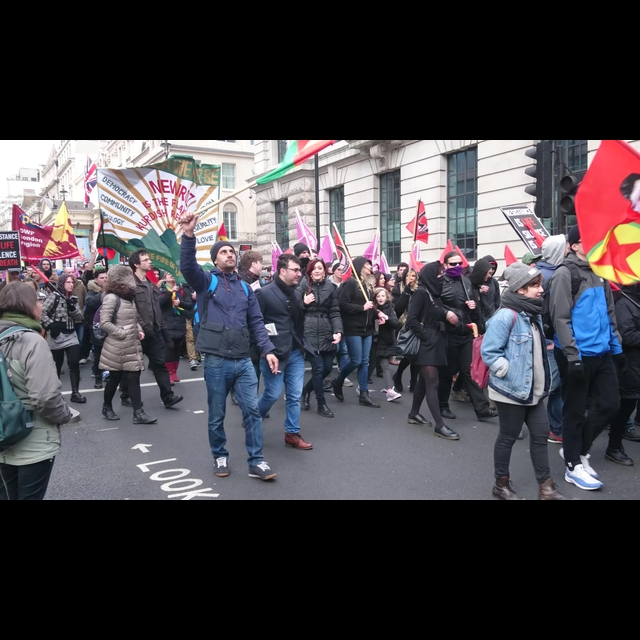PKK: (569, 142, 640, 286)
